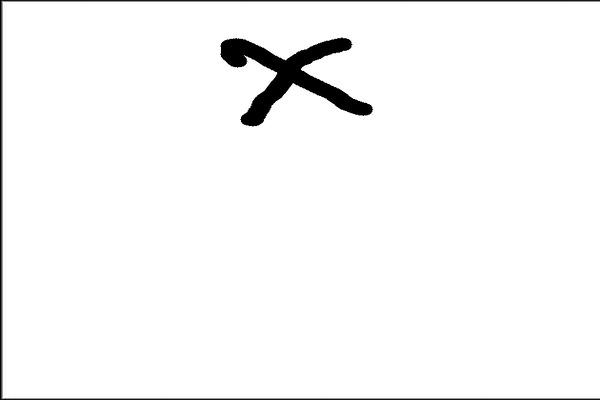X: (194, 25, 384, 145)
